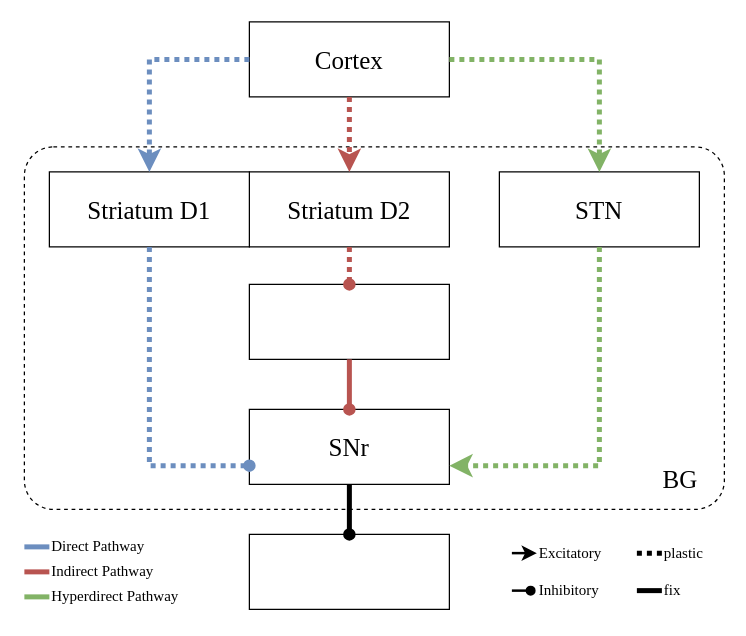
The diagram is 746 pixels wide and 636 high, and some of its shapes have lost their labels. Each missing label, with the centre of its shape:
"GPe" goes at (348,321).
"Thalamus" goes at (348,571).
